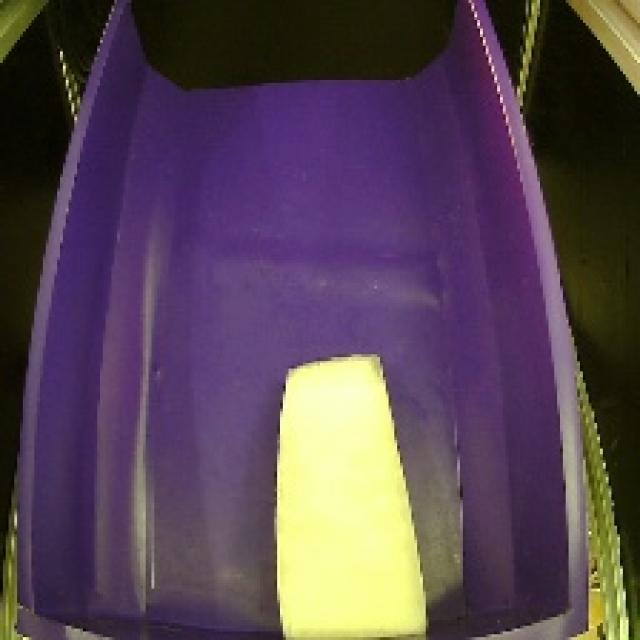white_radish: (264, 346, 442, 640)
